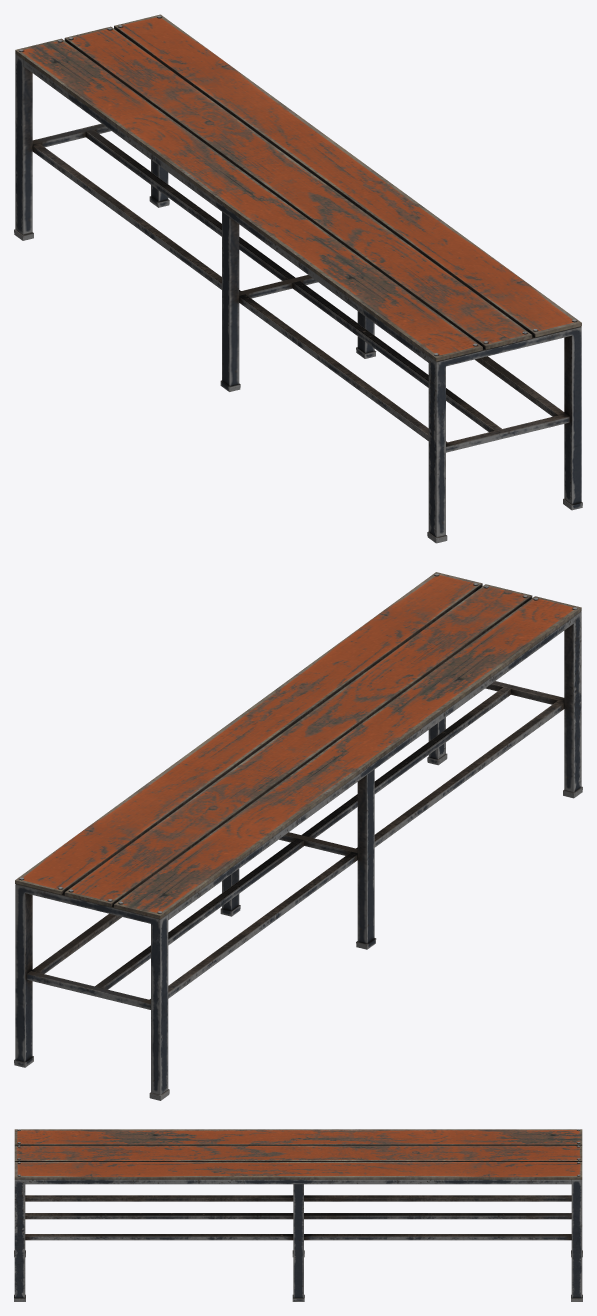
The model's file is old_bench.glb.
3 renders of one model, top to bottom at view 1: azimuth 30°, elevation 25°; view 2: azimuth 150°, elevation 25°; view 3: azimuth 270°, elevation 25°, orthographic. The views are drawn at different scales.
Parts seen in each view (by area): view 1: bench_old_bench_0; view 2: bench_old_bench_0; view 3: bench_old_bench_0.
Boxes of the visible parts, x1=… form: bench_old_bench_0: x1=14, y1=14, x2=582, y2=543; bench_old_bench_0: x1=14, y1=572, x2=582, y2=1100; bench_old_bench_0: x1=14, y1=1129, x2=582, y2=1301.
Bounding box in the file's own units: 0.1967 × 0.2378 × 0.9796.
1 material, 1 textured.
